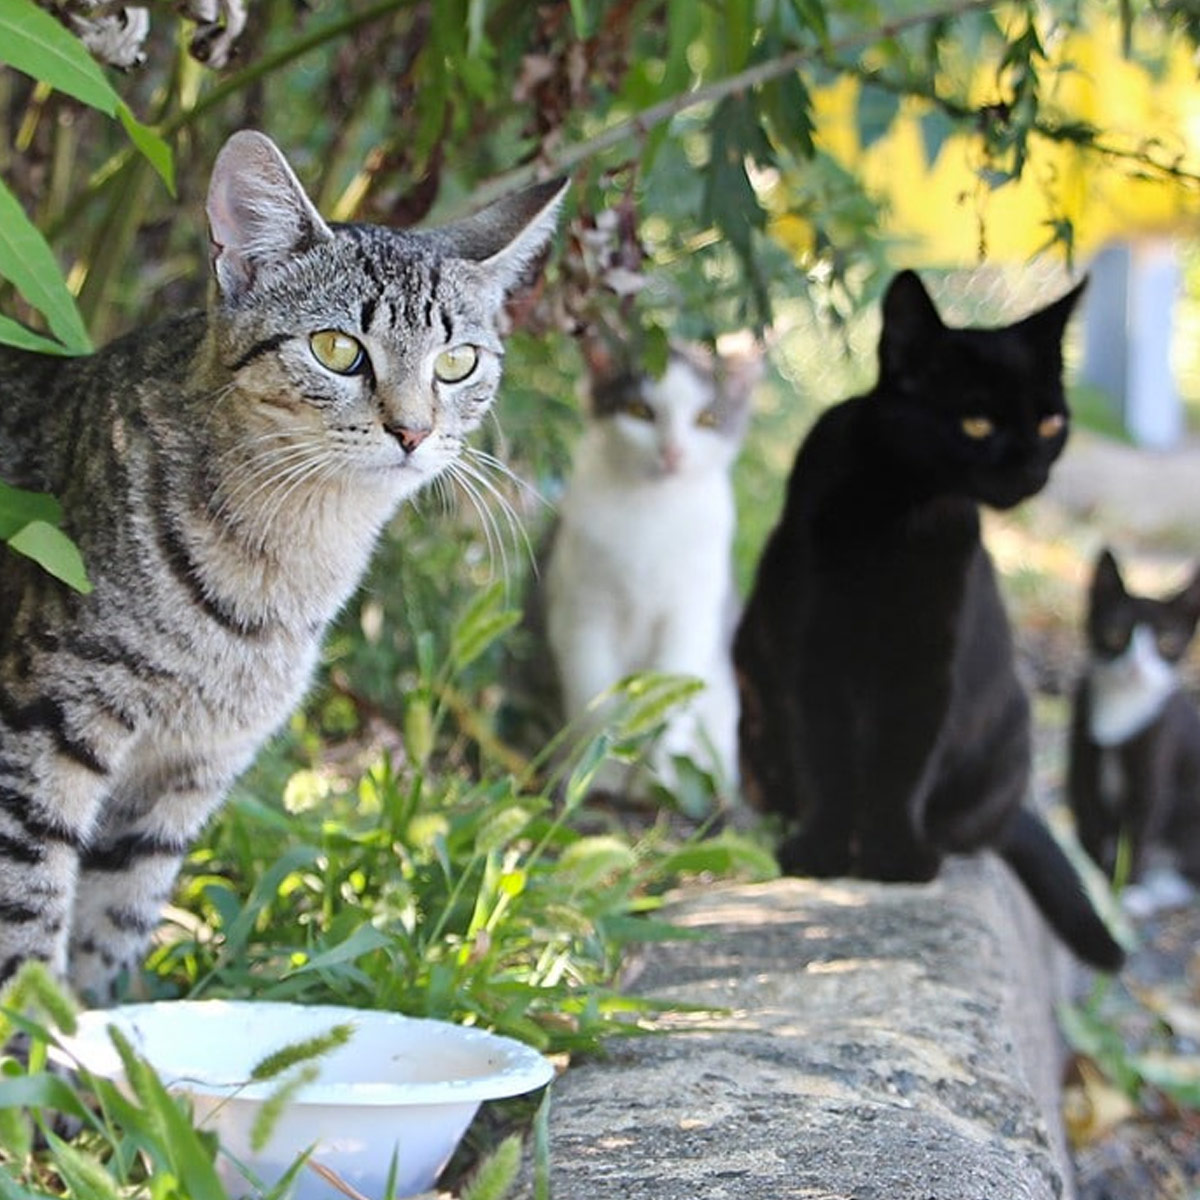Cat: (1, 93, 599, 1031), (710, 263, 1174, 989)
